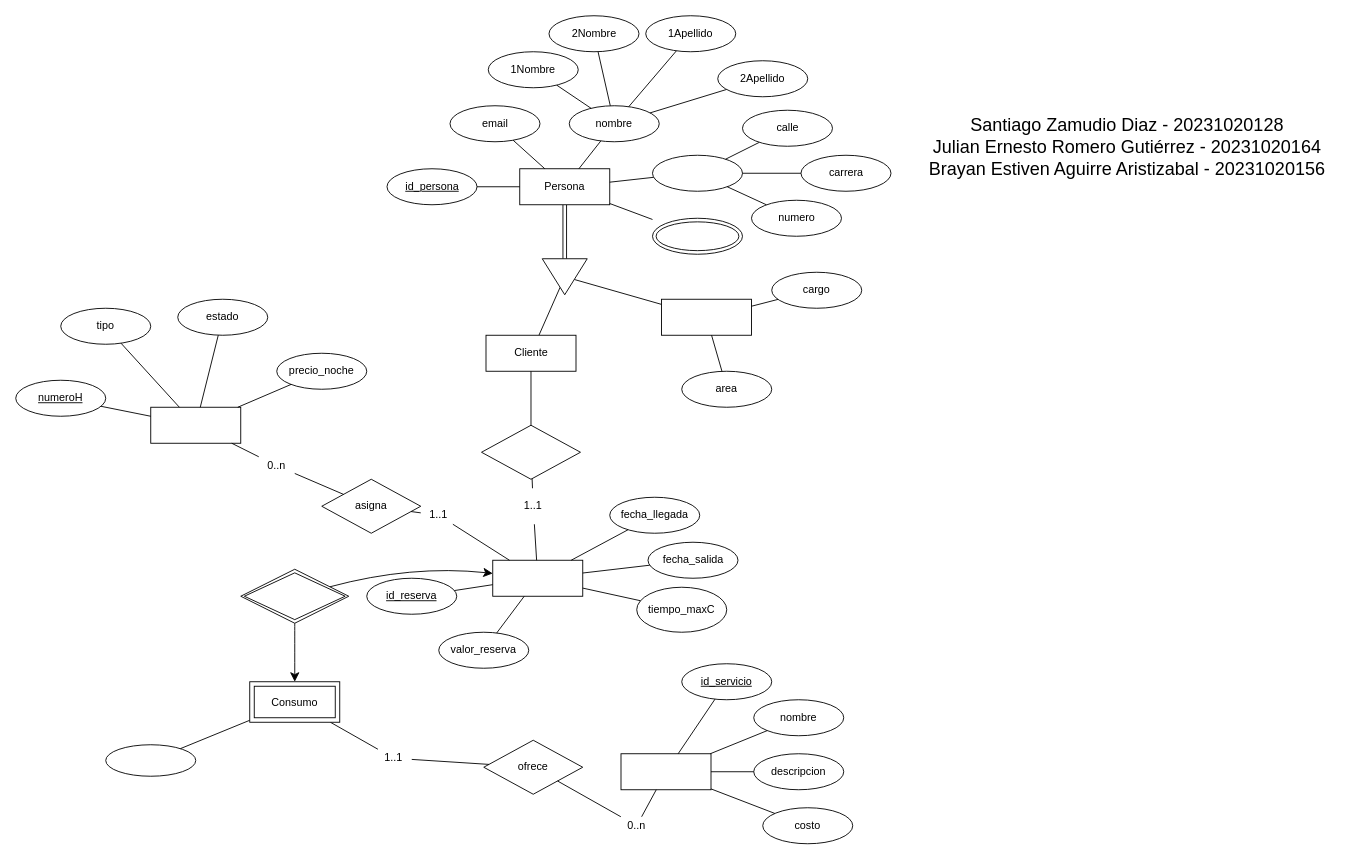
This 1346x860 diagram has some shape labels left out. Here are the shapes that lost their labels. From the top down, the centre of each, then its label:
At point 697,172: "direccion".
At point 697,235: "telefono".
At point 706,316: "Empleado".
At point 195,424: "Habitacion".
At point 530,451: "realiza".
At point 294,595: "Registra".
At point 537,577: "Reserva".
At point 150,760: "fecha_hora".
At point 665,771: "Servicio".
